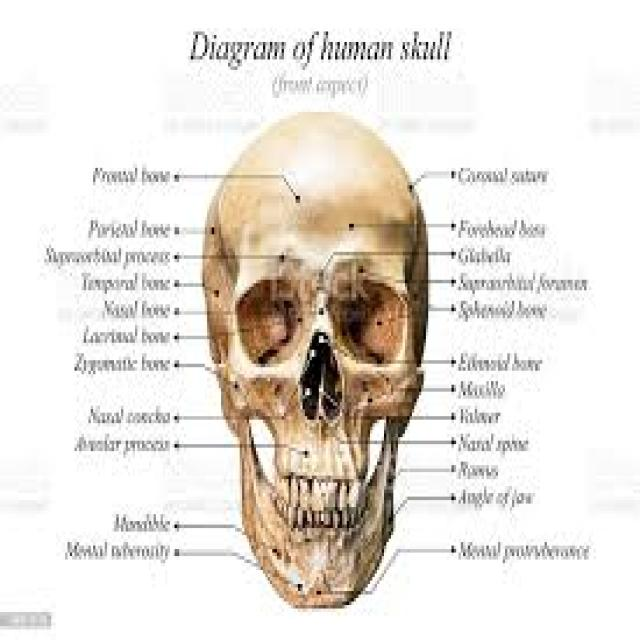skull: (192, 105, 437, 613)
